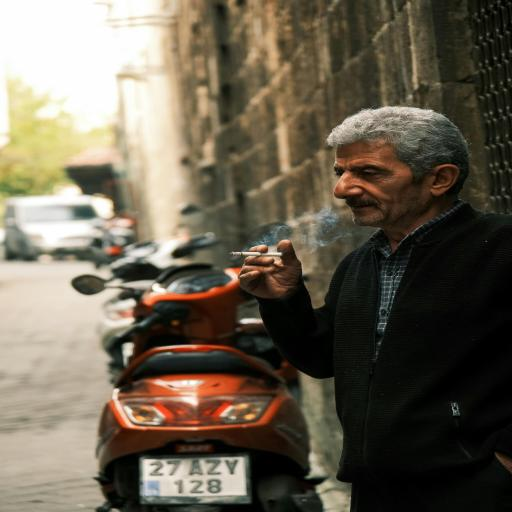terdeteksi pegang rokok: (214, 218, 318, 318)
